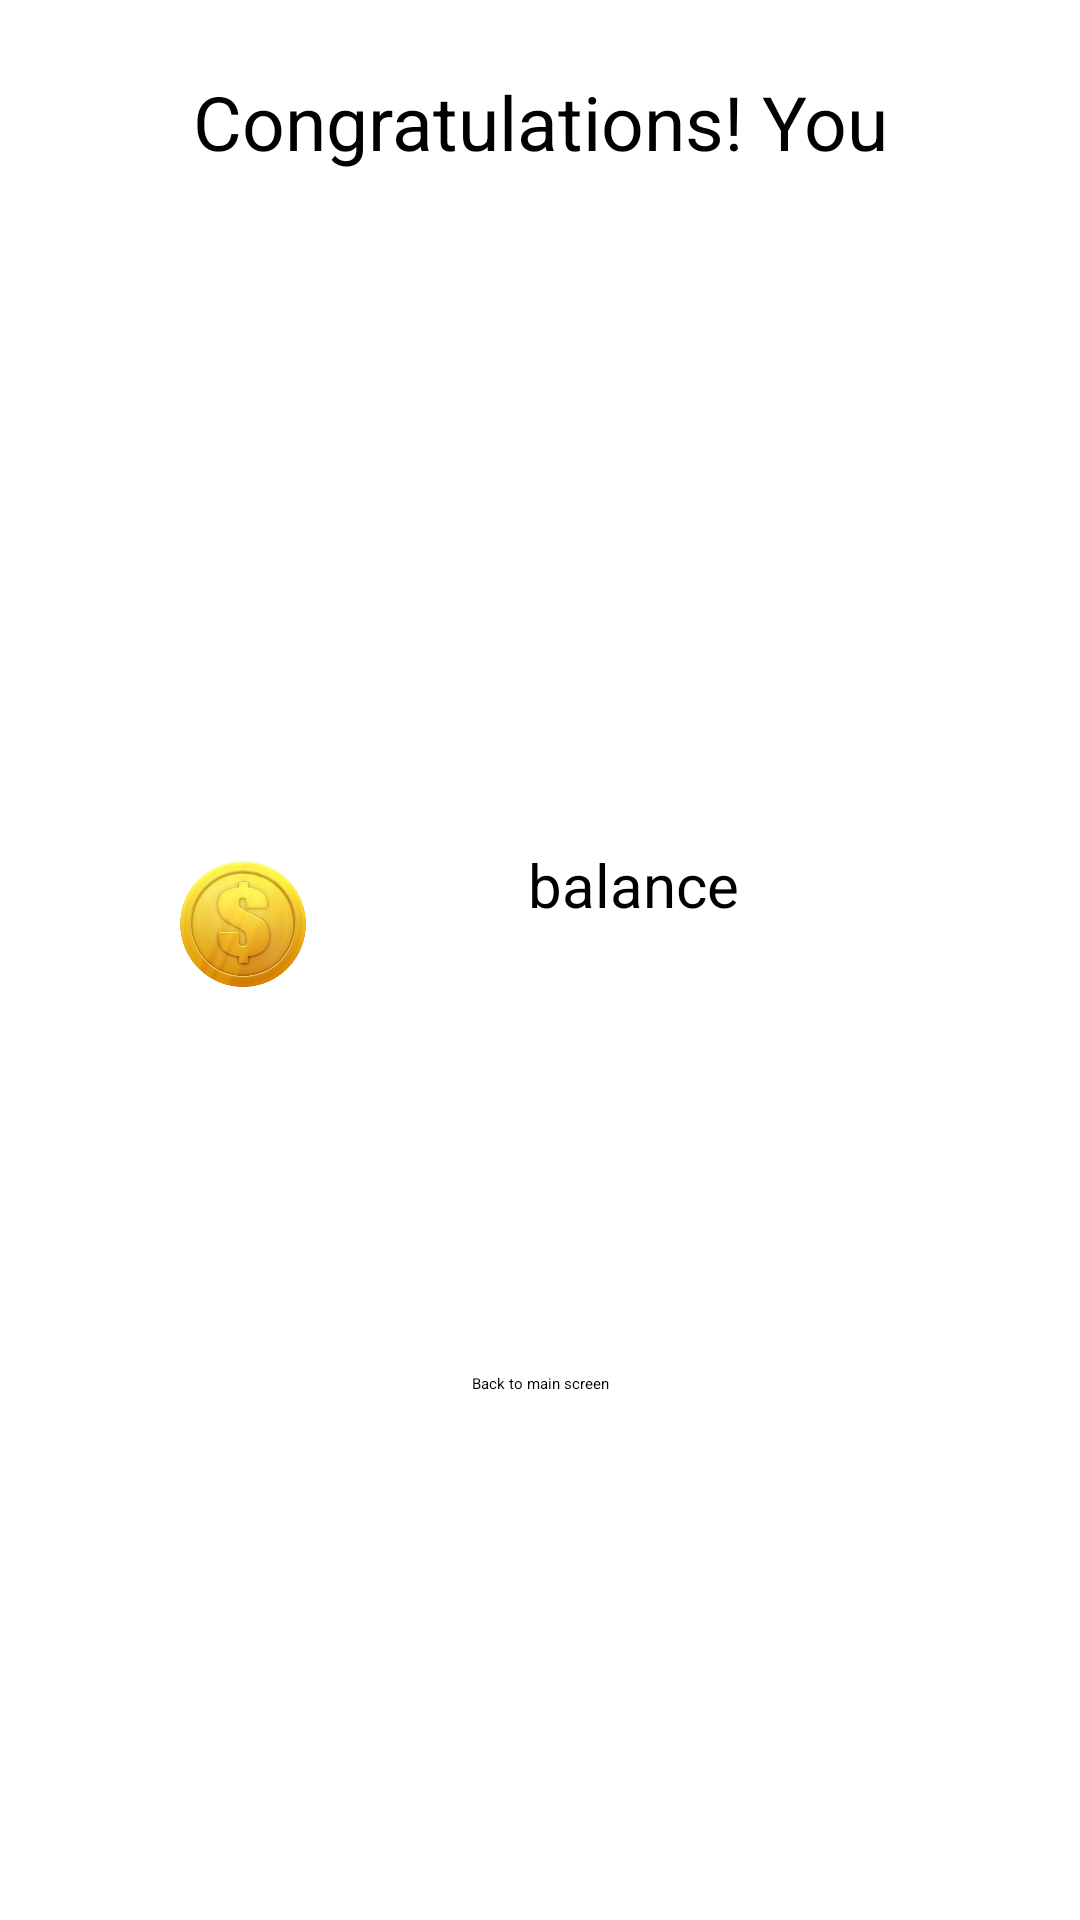

Icons on this 1080x1920 Android screen, each with the point to tap as (x=x, y=y):
coin: (x=243, y=924)
